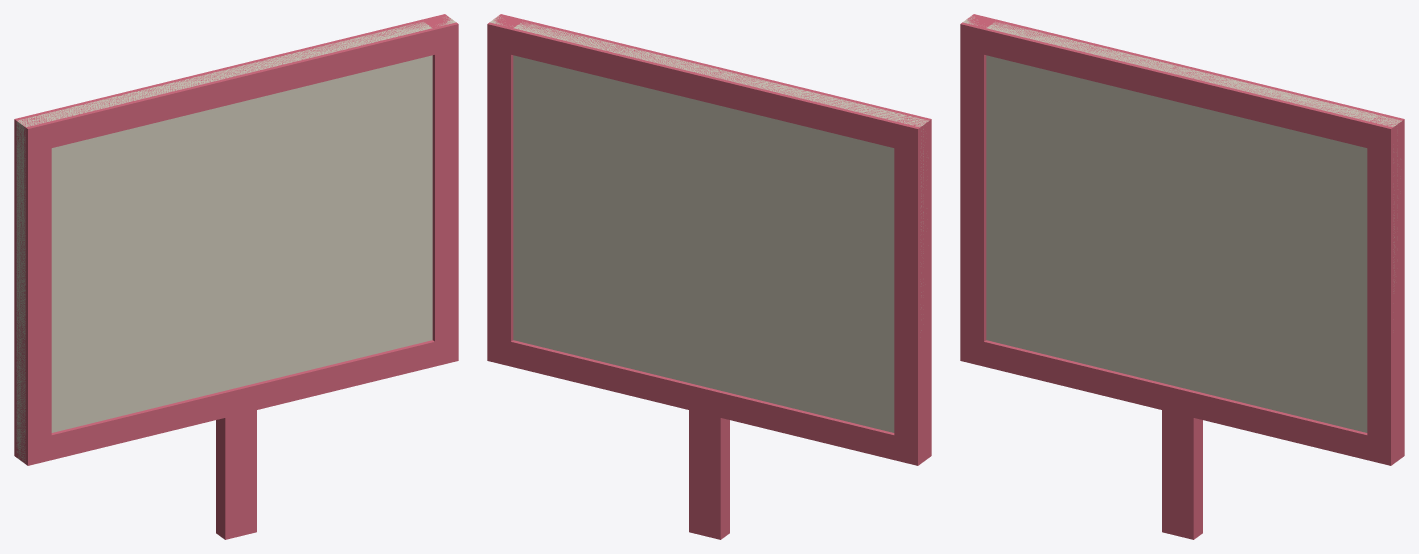
Rendered from race-sign-2.obj.
The picture shows the model from 3 angles, left to right: view 1: azimuth 30°, elevation 25°; view 2: azimuth 150°, elevation 25°; view 3: azimuth 330°, elevation 25°; orthographic projection.
Parts seen in each view (by area): view 1: gate; view 2: gate; view 3: gate.
Part boxes in pixels (<box>): gate: <box>14,14,458,539</box>; gate: <box>487,14,931,539</box>; gate: <box>960,14,1404,539</box>.
Bounding box in the file's own units: 435 × 445 × 24.
